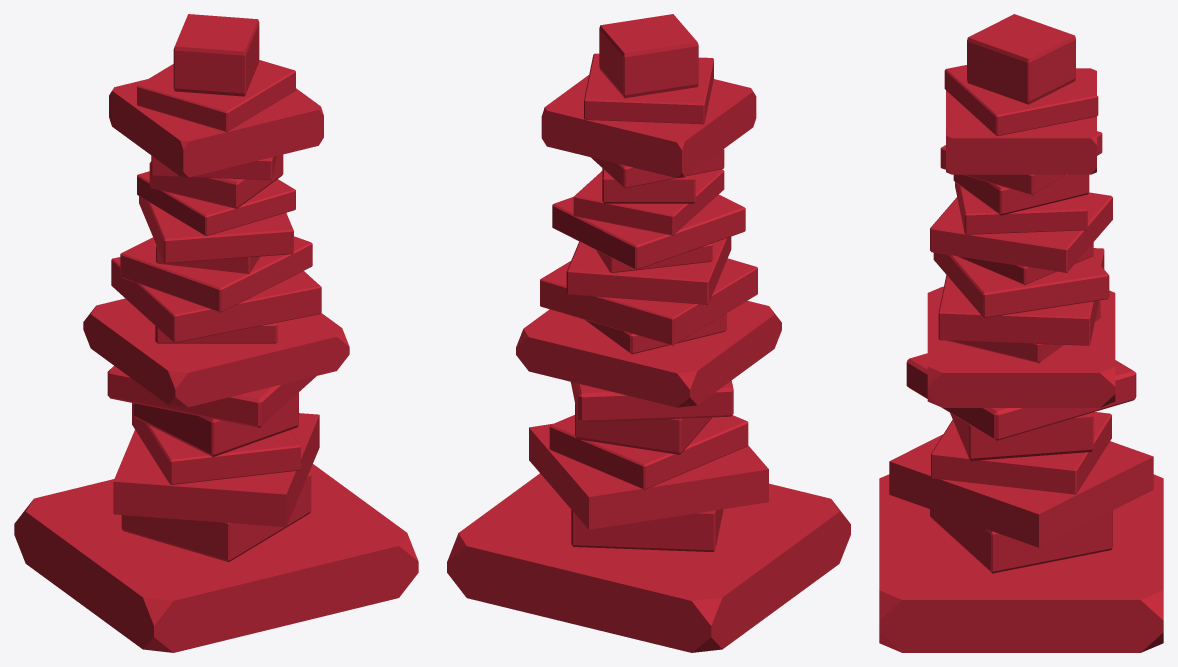
The model's file is KINETIKA_EMPILEMENT_DESTRUCTIBLE_2.FBX.
The picture shows the model from 3 angles, left to right: view 1: azimuth 30°, elevation 25°; view 2: azimuth 150°, elevation 25°; view 3: azimuth 270°, elevation 25°; orthographic projection.
Visible parts, largest first — view 1: Empilement2, Box120, Box128, Box130, Box118, Box127, Box134, Box122, Box133, Box126, Box119, Box123 (+6 smaller); view 2: Empilement2, Box120, Box130, Box128, Box118, Box134, Box122, Box126, Box127, Box133, Box119, Box132 (+6 smaller); view 3: Empilement2, Box130, Box120, Box128, Box134, Box126, Box122, Box127, Box118, Box133, Box119, Box129 (+6 smaller).
Boxes of the visible parts, x1,y1,x2,y2 form: Empilement2: (14,464,418,652); Box120: (83,298,349,407); Box128: (109,79,323,177); Box130: (113,413,319,527); Box118: (111,257,321,342); Box127: (120,236,312,312); Box134: (173,14,259,96); Box122: (132,403,300,484); Box133: (137,60,295,131); Box126: (139,196,293,263); Box119: (121,472,311,562); Box123: (134,392,298,456); Empilement2: (447,473,850,652); Box120: (516,300,781,407); Box130: (529,423,768,529); Box128: (541,75,756,178); Box118: (540,258,757,345); Box134: (599,14,698,98); Box122: (549,415,748,489); Box126: (552,194,745,269); Box127: (566,236,731,304); Box133: (584,53,713,124); Box119: (571,509,723,551); Box132: (573,169,724,235); Empilement2: (879,474,1163,652); Box130: (889,434,1153,547); Box120: (927,286,1115,407); Box128: (946,68,1096,174); Box134: (967,14,1075,104); Box126: (930,192,1112,272); Box122: (931,412,1111,494); Box127: (933,252,1109,317); Box118: (938,248,1104,345); Box133: (944,65,1098,136); Box119: (930,509,1112,573); Box129: (906,353,1136,440).
Size of the model in its own units: 13.48 by 26.38 by 12.34.
